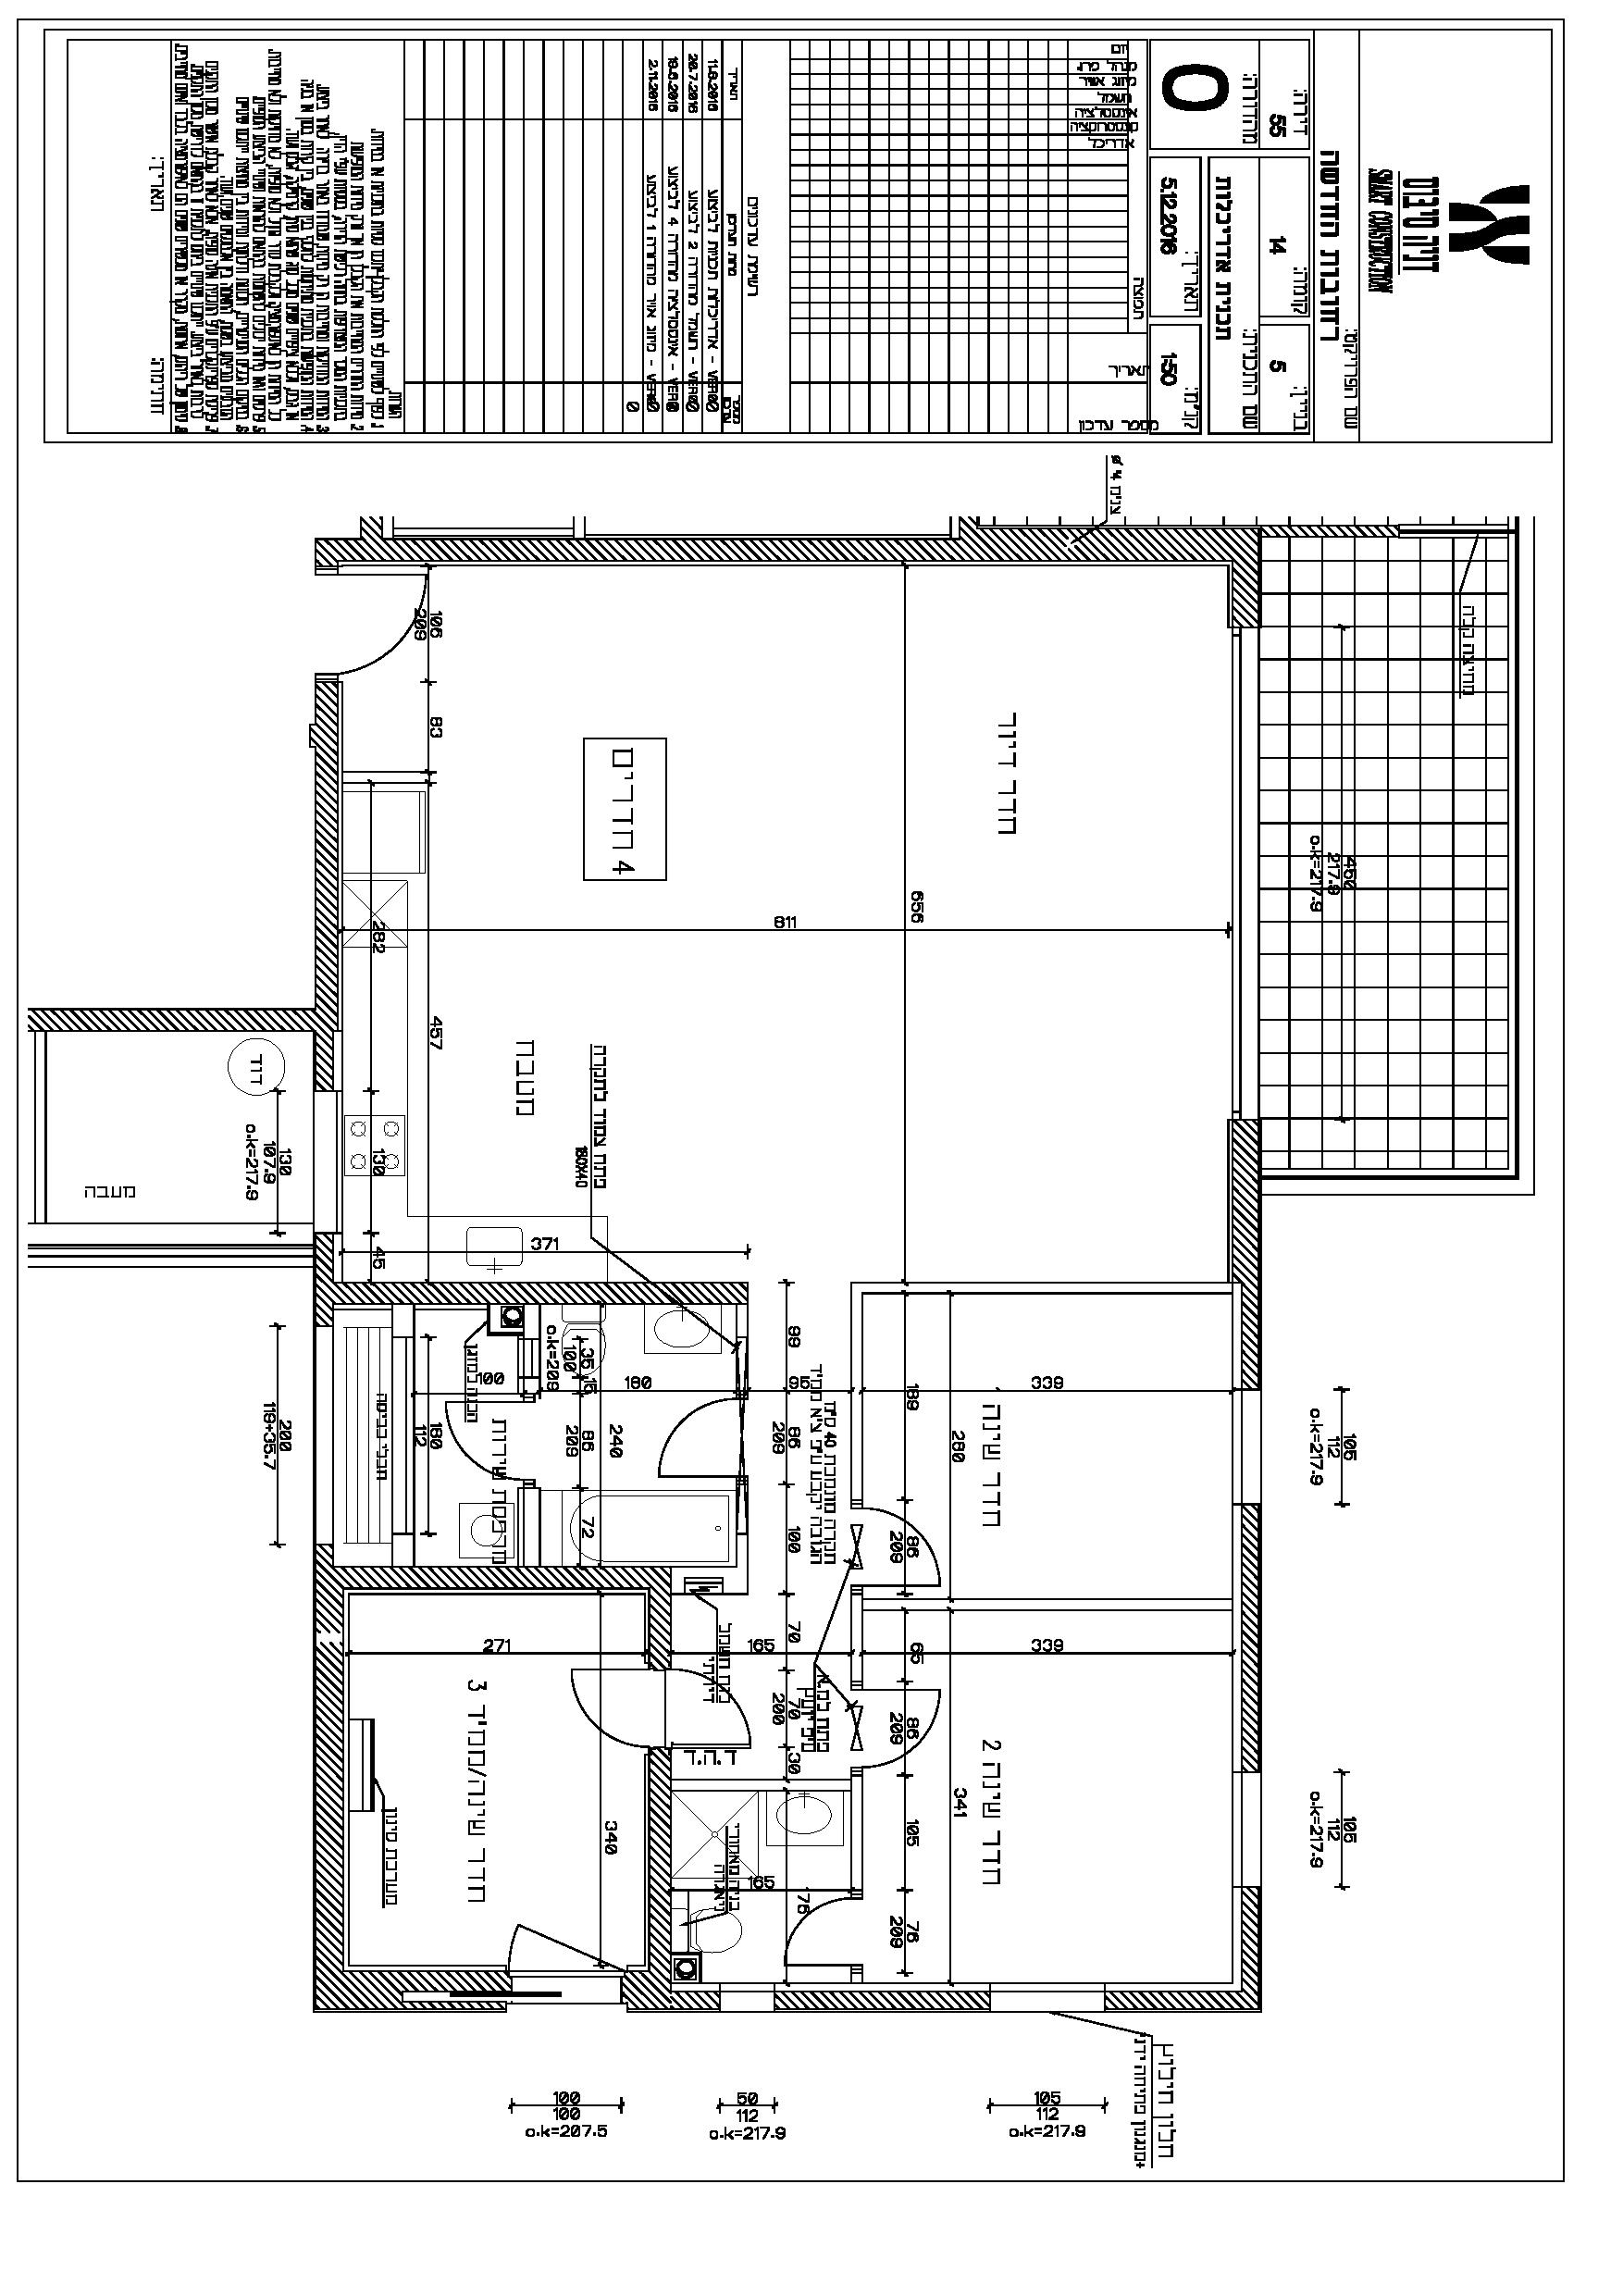door: (866, 1497, 949, 1595), (562, 1660, 645, 1757), (676, 1660, 759, 1757), (866, 1679, 949, 1776), (650, 1393, 732, 1490), (439, 1397, 523, 1490)
wall: (313, 1565, 343, 2010), (314, 1282, 747, 1305), (316, 1565, 653, 1590), (645, 1748, 674, 2017), (1231, 1504, 1259, 1773)
window: (1230, 1773, 1263, 1888), (1231, 1390, 1265, 1505), (989, 1983, 1103, 2013), (720, 1983, 773, 2018)
